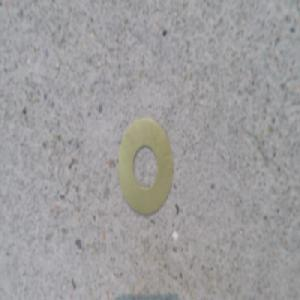Washer: (115, 99, 176, 204)
